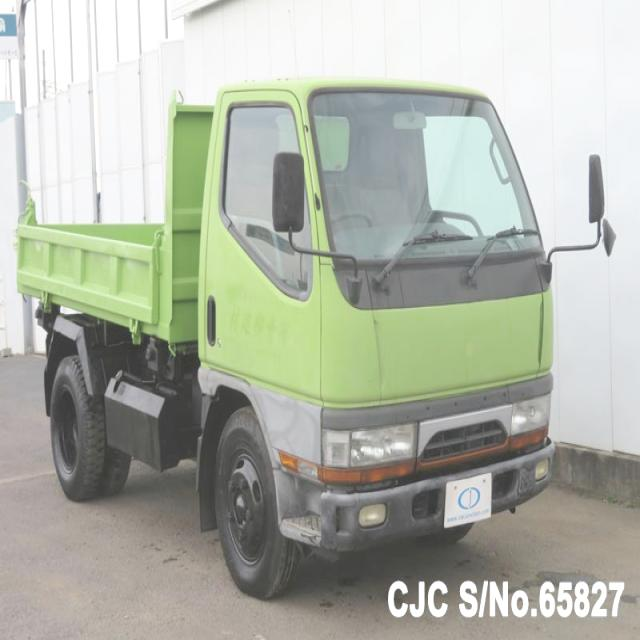truck: (15, 82, 602, 597)
